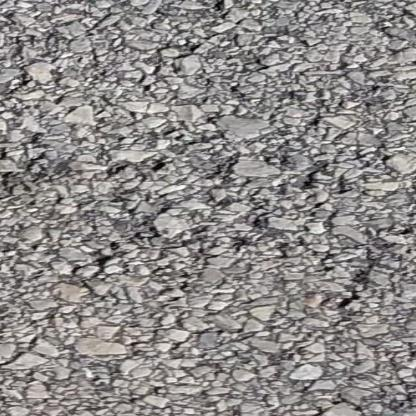Cracks: (0, 0, 416, 45)
